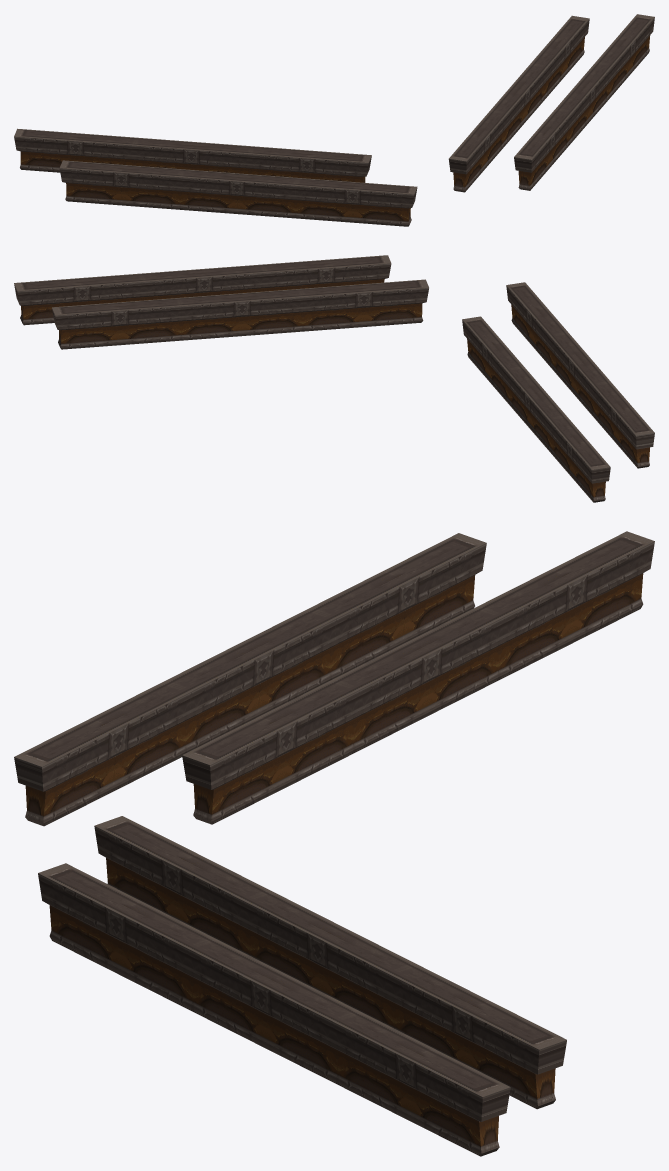
Rendered from sn_zhanshi_001_02.FBX.
3 renders of one model, top to bottom at view 1: azimuth 30°, elevation 25°; view 2: azimuth 150°, elevation 25°; view 3: azimuth 270°, elevation 25°, orthographic. The views are drawn at different scales.
Visible parts, largest first — view 1: sn_zhanshi_001_02; view 2: sn_zhanshi_001_02; view 3: sn_zhanshi_001_02.
Part boxes in pixels (box(x1,y1,x2,y2)): sn_zhanshi_001_02: box(14, 14, 654, 226); sn_zhanshi_001_02: box(14, 255, 654, 502); sn_zhanshi_001_02: box(14, 531, 654, 1156).
Size of the model in its own units: 1113 by 533 by 60.39.
